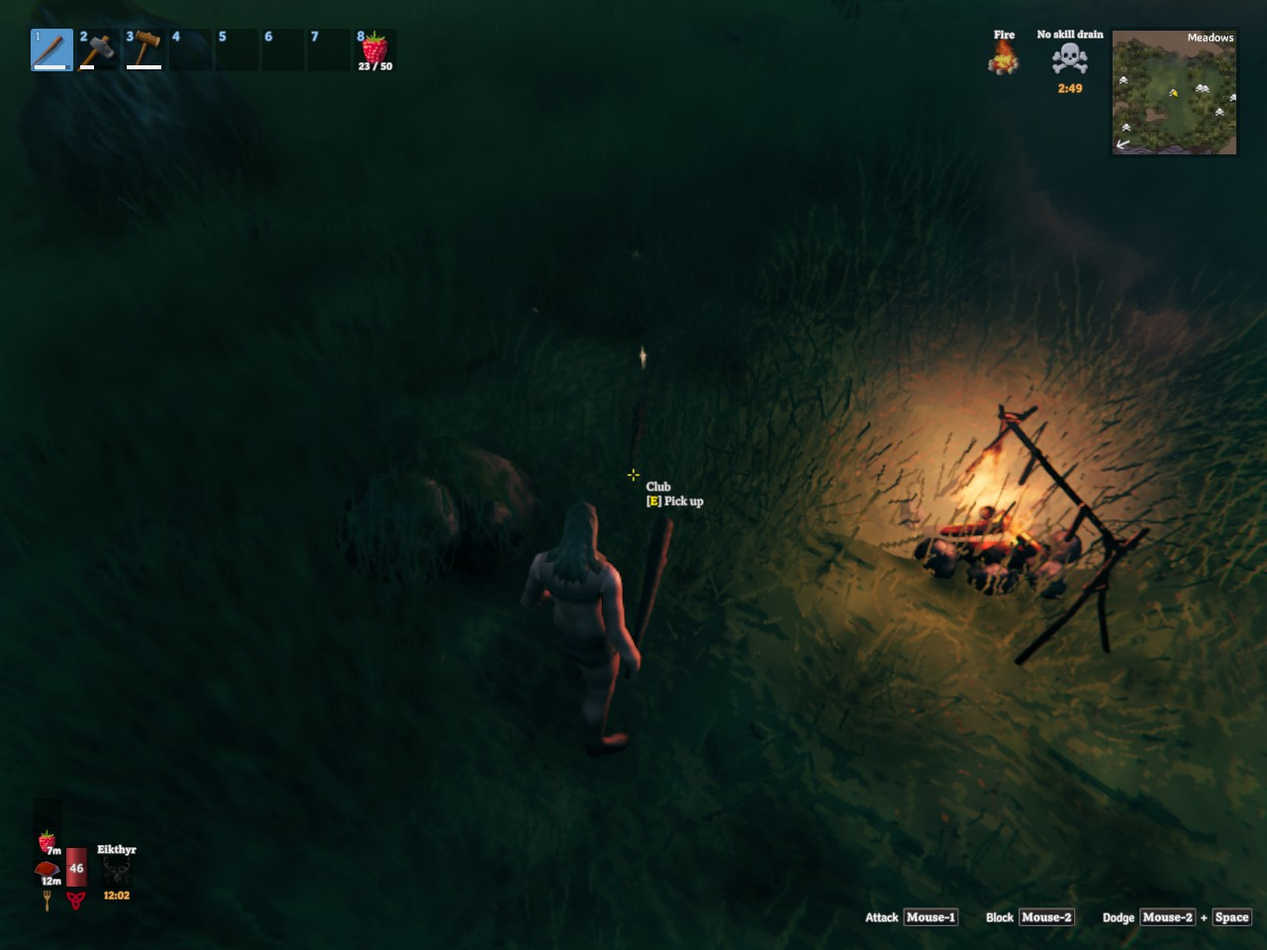Club: (632, 513, 673, 649)
Cook Station: (999, 405, 1149, 664)
Fire: (927, 507, 1058, 596)
Food Indicator: (38, 830, 63, 889)
Health Bar: (67, 845, 90, 891)
Hotbar: (25, 24, 401, 74)
Status Indicator: (984, 24, 1107, 98)
